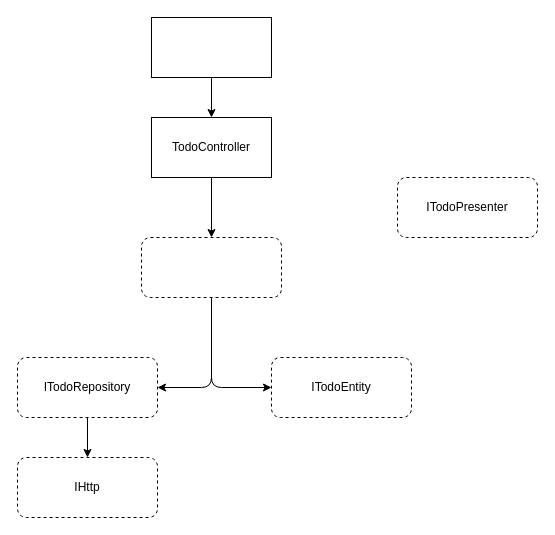
This 555x535 diagram has some shape labels left out. The centre of each missing label's shape, as x and y in pixels:
ICreateTodoUseCase: the point at 211,267
UI: the point at 211,47
